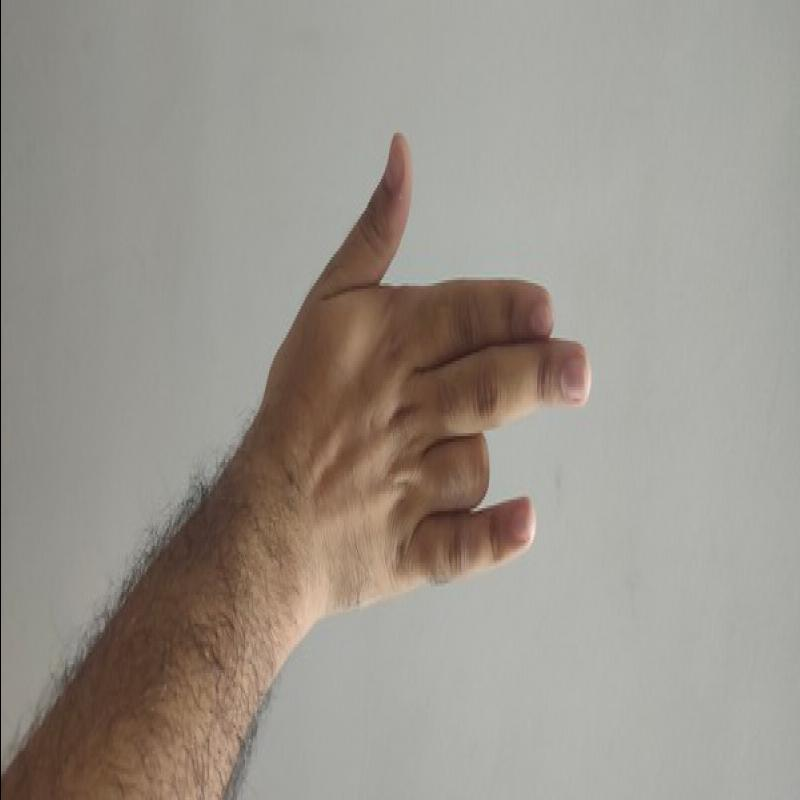Pathaaka: (268, 124, 607, 626)
